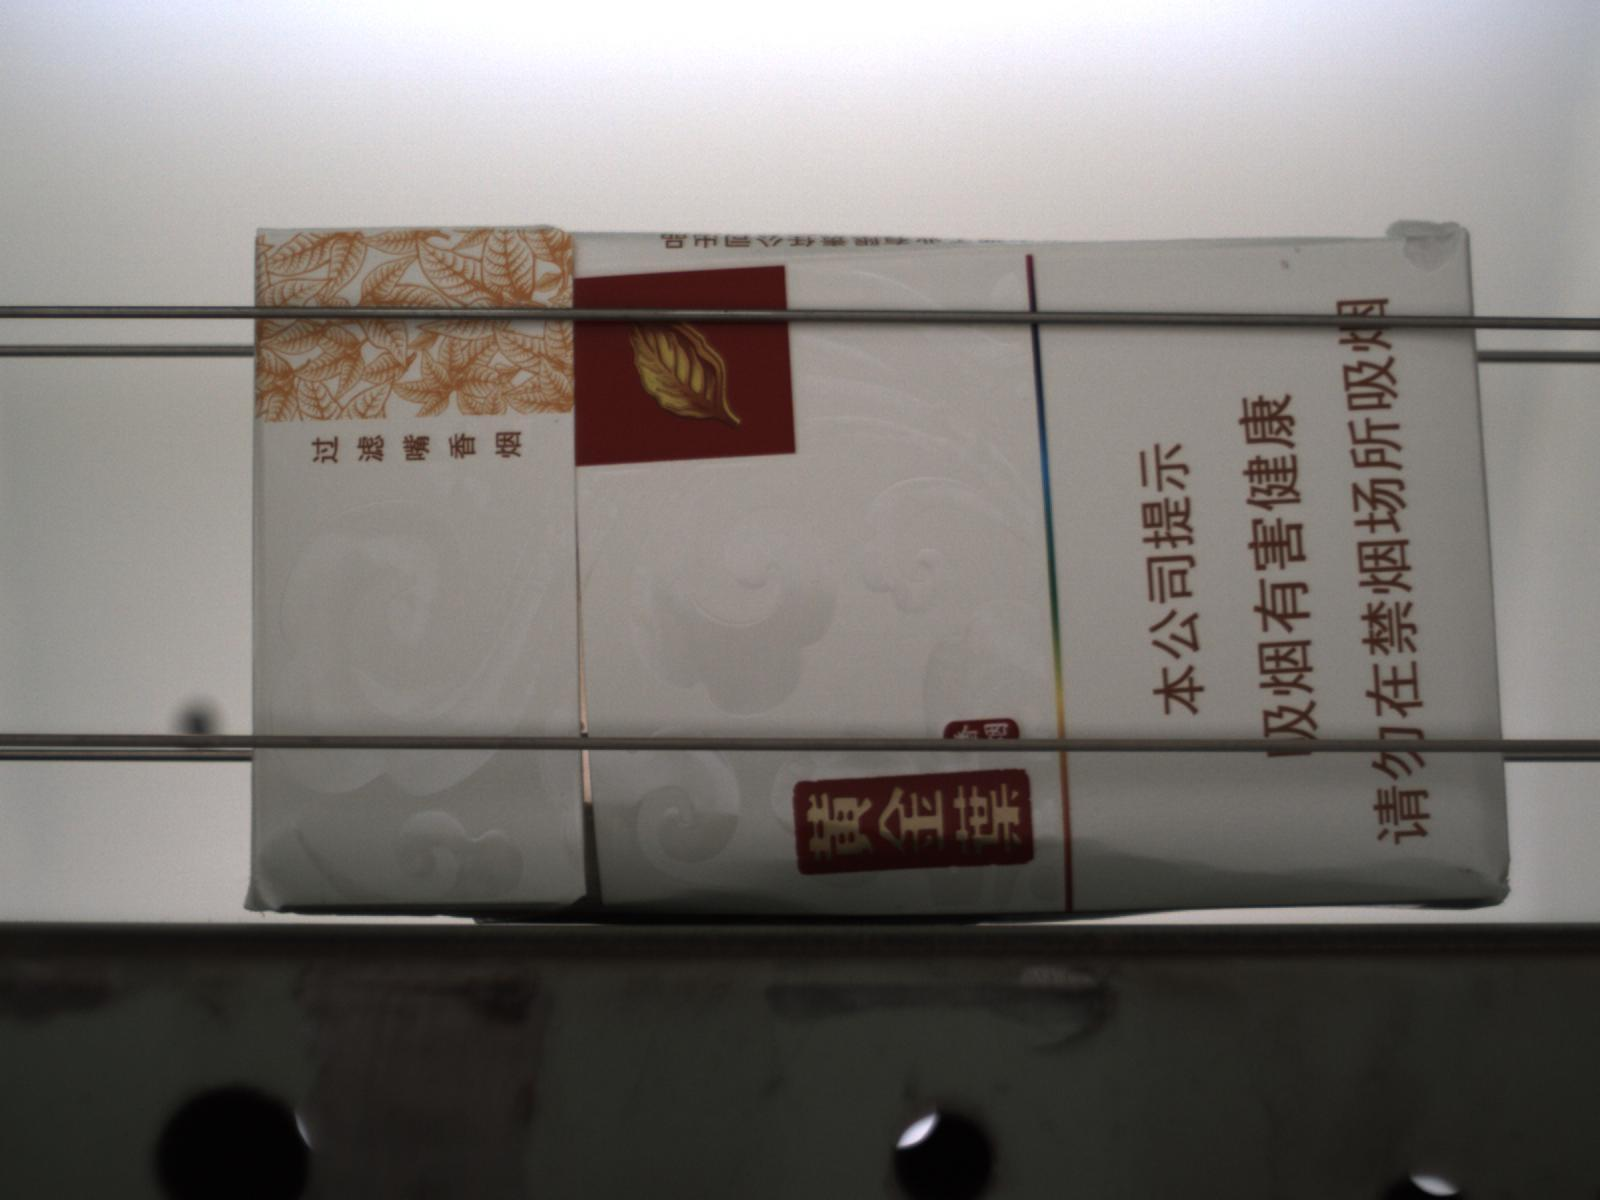boxDamage_slight: (611, 834, 1517, 921)
dirtySpot: (1280, 258, 1290, 272)
gumDirt: (1396, 223, 1466, 272)
skewedOpen: (571, 534, 609, 924)
skewed_upper_0: (557, 226, 1133, 284)
